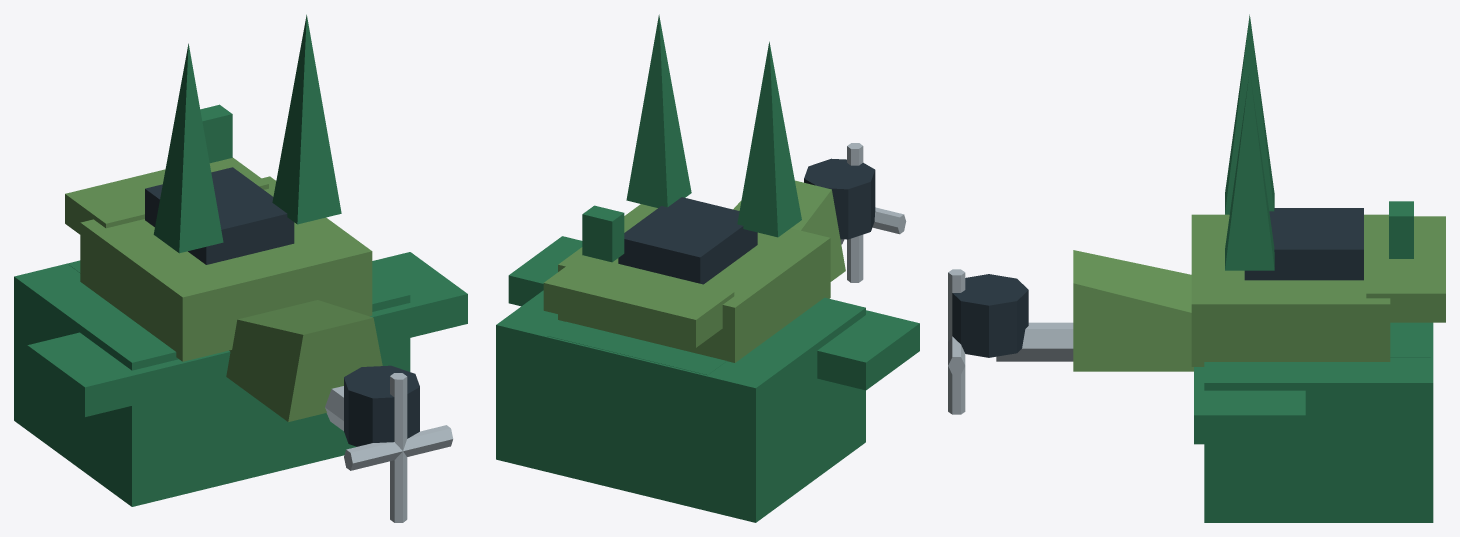
The model's file is air-transport.obj.
3 views of the same model, side by side, from view 1: azimuth 30°, elevation 25°; view 2: azimuth 150°, elevation 25°; view 3: azimuth 270°, elevation 25° (orthographic). The views are drawn at different scales.
Visible parts, largest first — view 1: air; view 2: air; view 3: air.
Boxes of the visible parts, x1=… form: air: x1=14, y1=14, x2=467, y2=522; air: x1=496, y1=14, x2=919, y2=522; air: x1=948, y1=14, x2=1445, y2=522.
Size of the model in its own units: 1.56 by 1.66 by 1.8.
